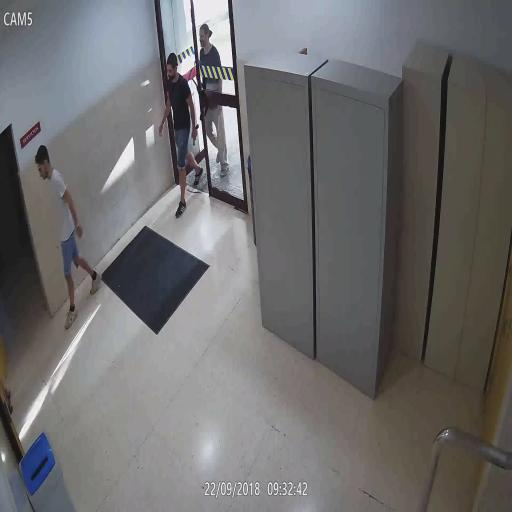Handgun: (190, 120, 200, 147)
